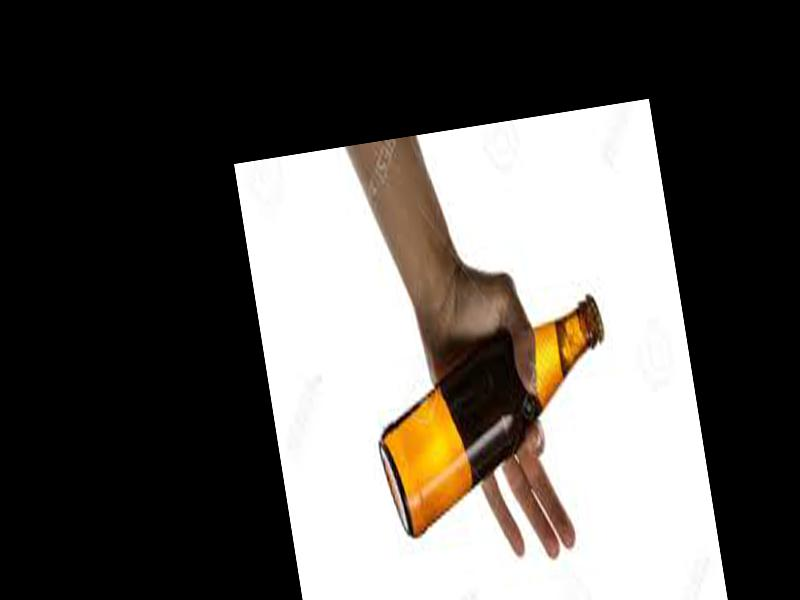Beer: (362, 299, 624, 535)
